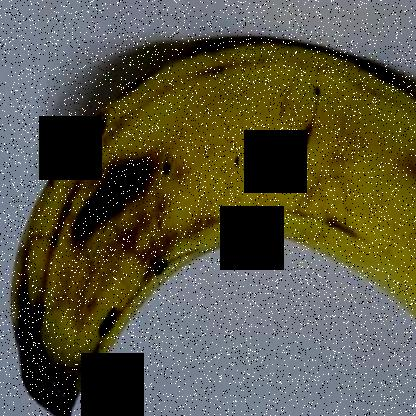ripe: (7, 19, 415, 415)
